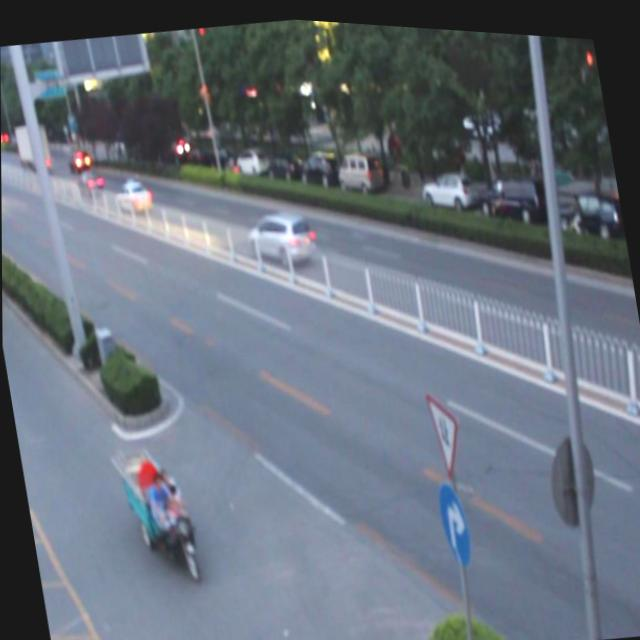car: (244, 200, 319, 273)
